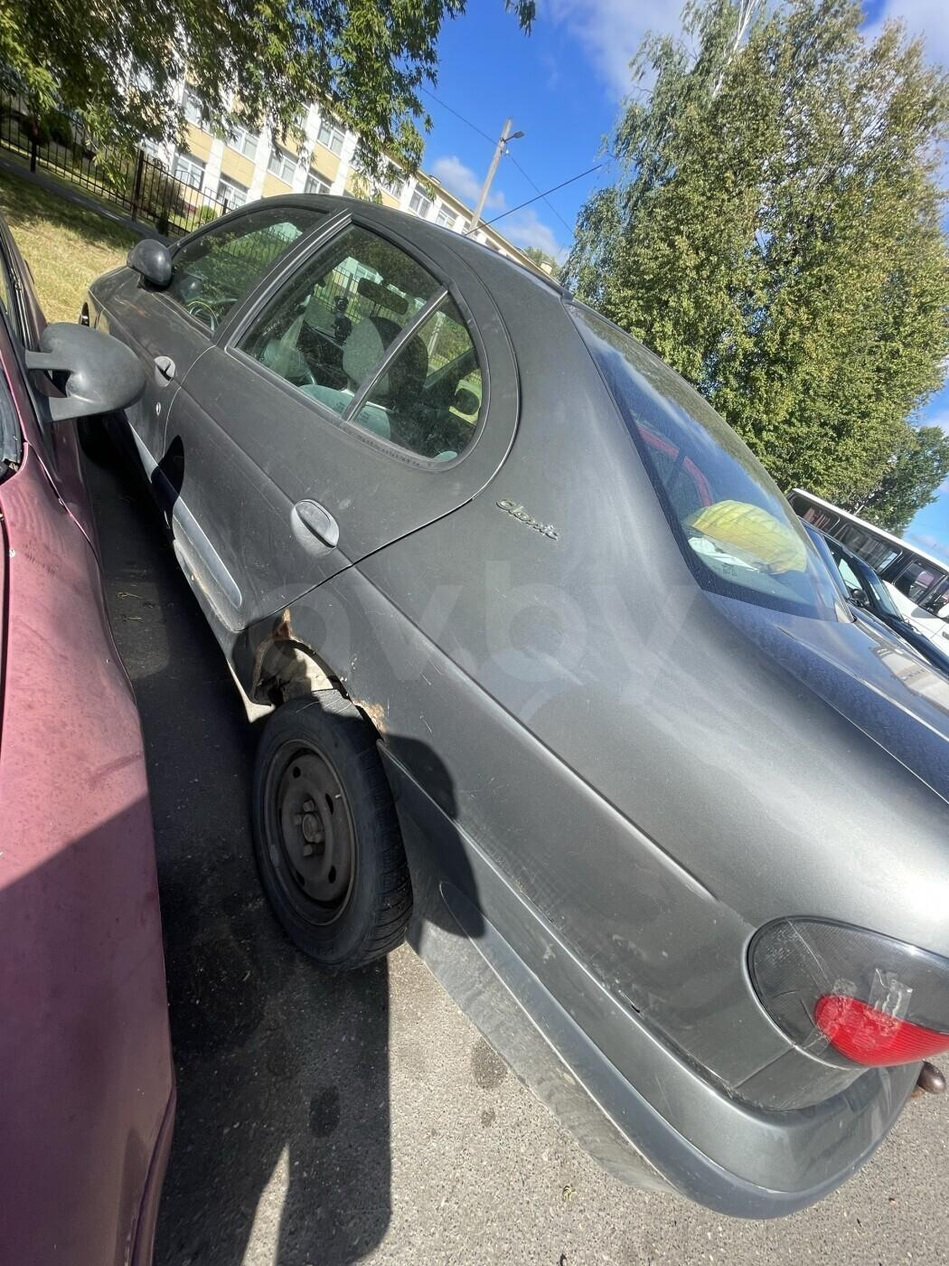Megane_1995-1999: (80, 192, 949, 1224)
